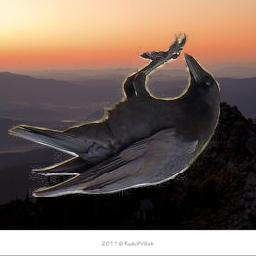Crow: (8, 31, 220, 197)
